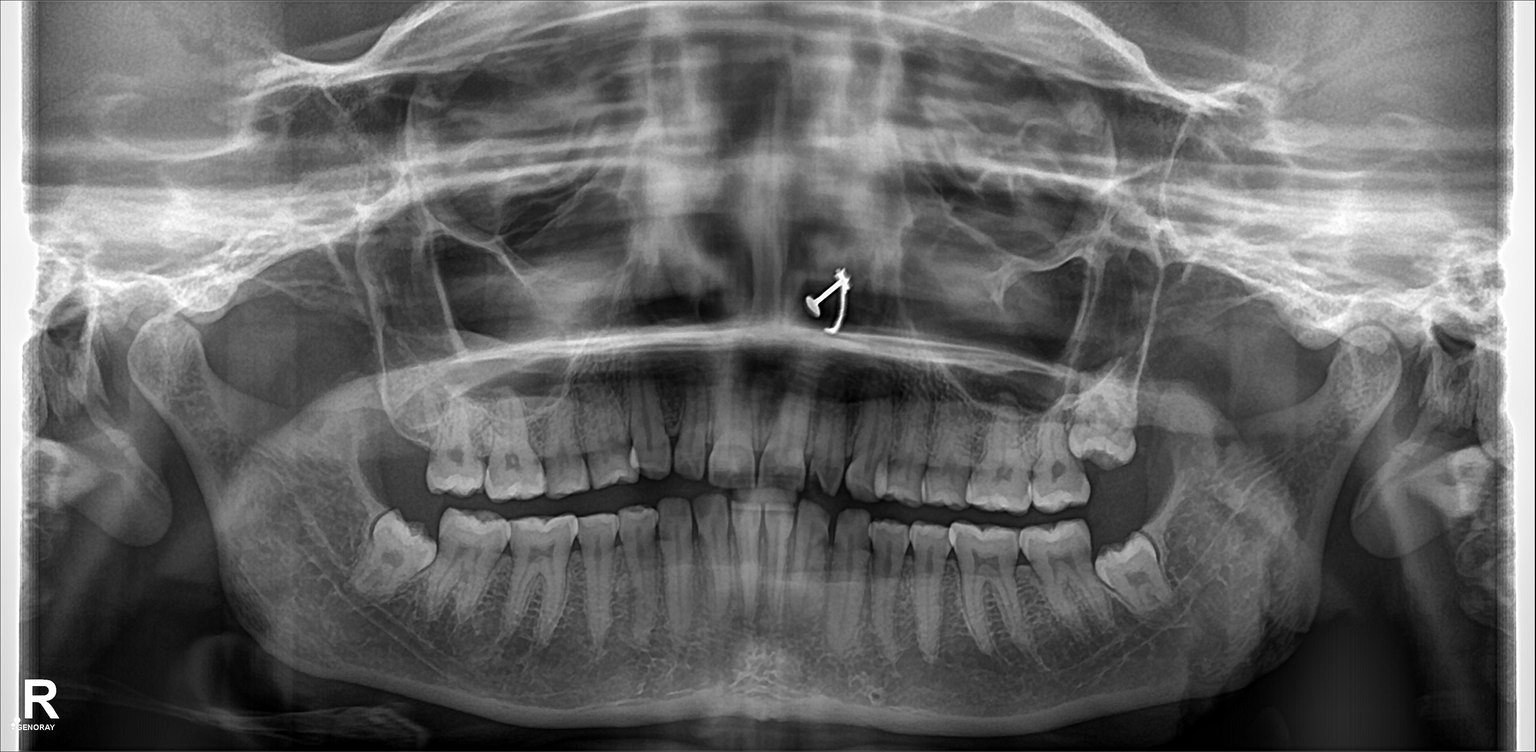Impacted Third Molar: (1067, 382, 1138, 463), (359, 514, 426, 590), (1101, 545, 1172, 608)
Missing Tooth: (372, 402, 431, 490)
